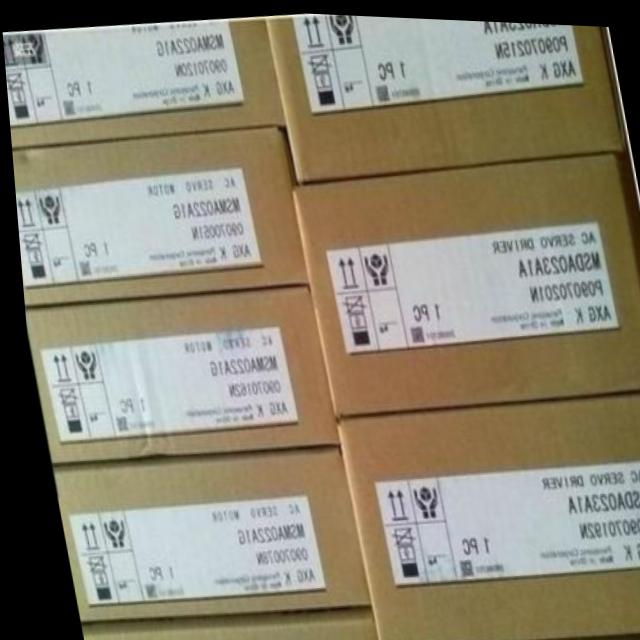box: (288, 148, 640, 414), (327, 385, 640, 640), (264, 11, 621, 179), (44, 440, 360, 623), (20, 279, 332, 464), (9, 120, 305, 305), (2, 17, 283, 148), (70, 601, 367, 640)
